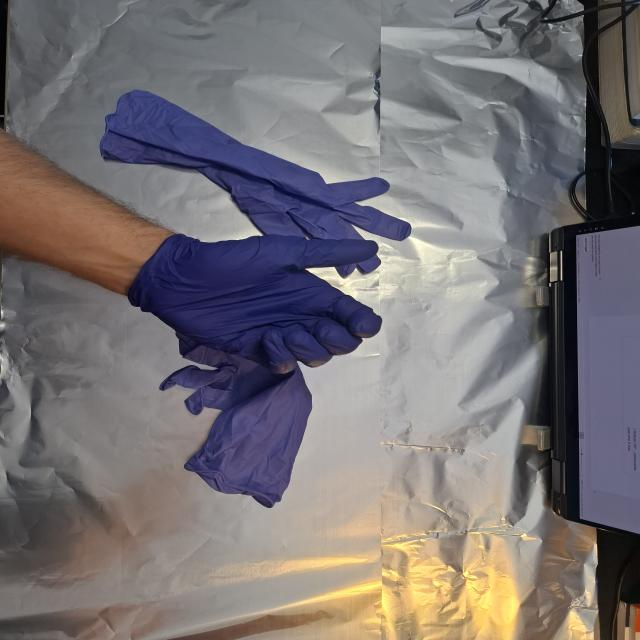glove_on: (127, 232, 386, 376)
